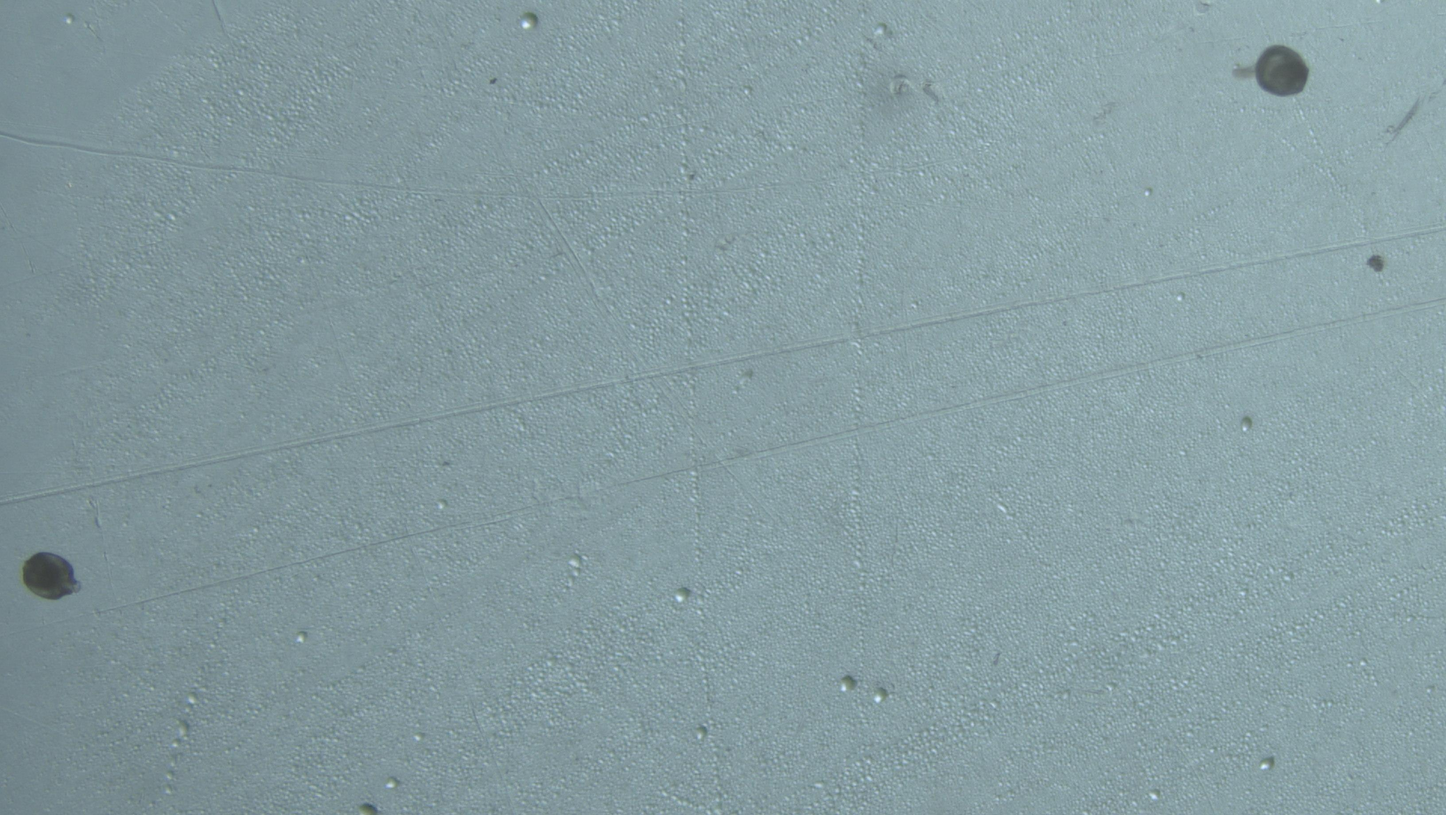live: (22, 552, 81, 600), (1254, 45, 1309, 96)
